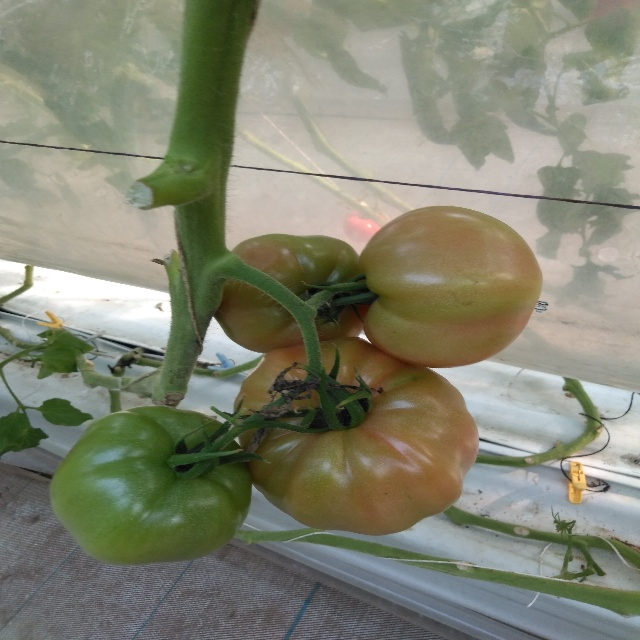b_green: (49, 405, 253, 566)
b_half_ripened: (234, 337, 479, 535), (360, 205, 543, 368), (213, 233, 375, 354)
